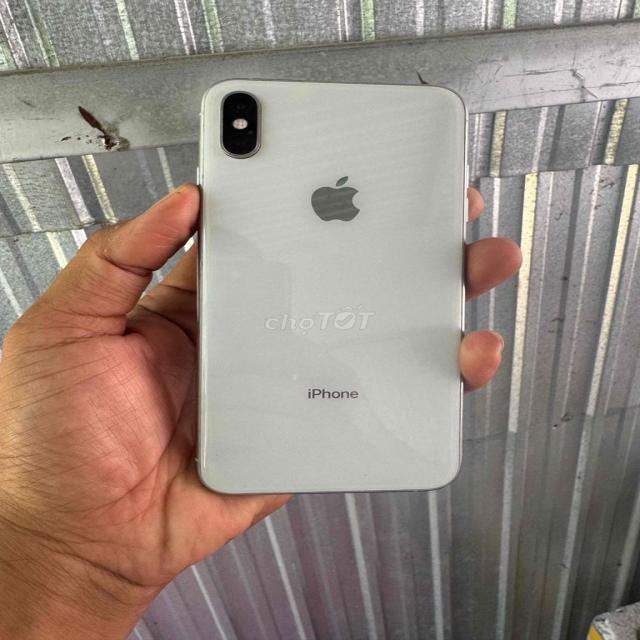gen_x_xs: (178, 75, 502, 503)
